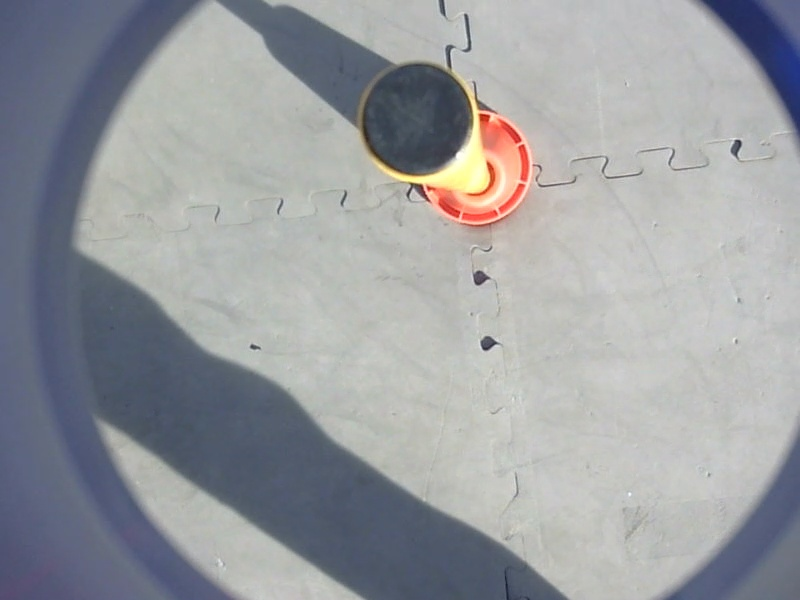tip: (352, 55, 479, 185)
